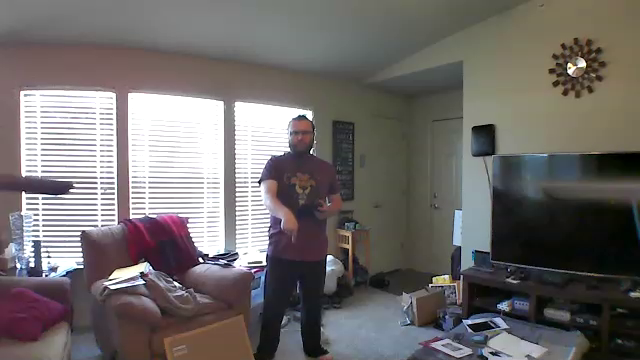down: (274, 200, 298, 246)
